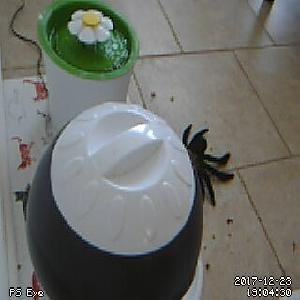fountain: (36, 1, 140, 81)
